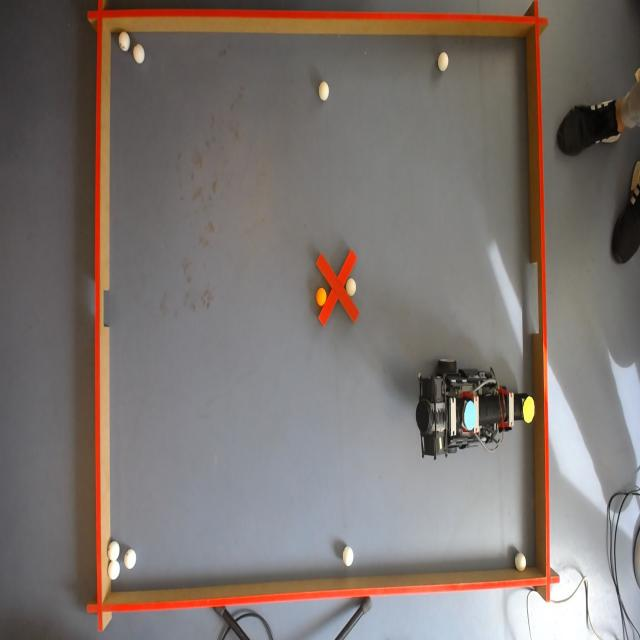robot: (416, 358, 535, 458)
robot-front: (521, 396, 536, 424)
robot-rear: (461, 397, 477, 433)
white: (132, 44, 146, 66), (124, 549, 138, 570), (342, 546, 355, 568), (107, 560, 121, 580), (438, 53, 451, 73), (118, 34, 132, 52), (515, 551, 527, 572), (317, 81, 329, 102), (108, 542, 120, 561), (316, 287, 326, 308), (347, 278, 356, 298)
